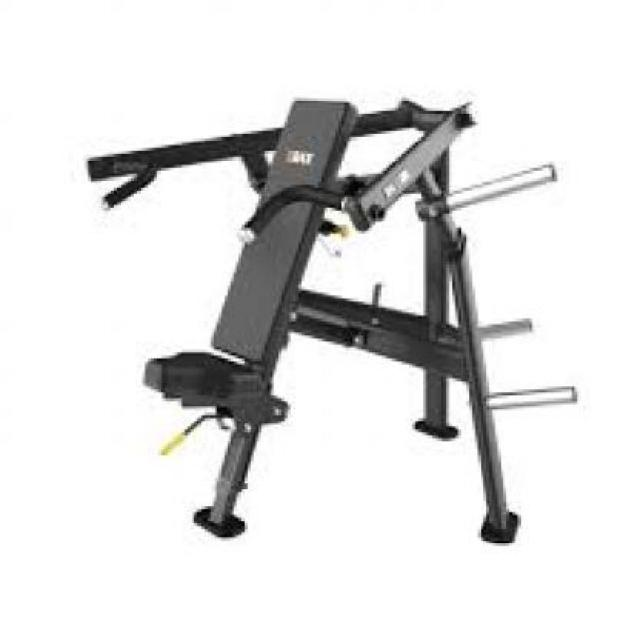shoulder press machine: (89, 97, 580, 548)
